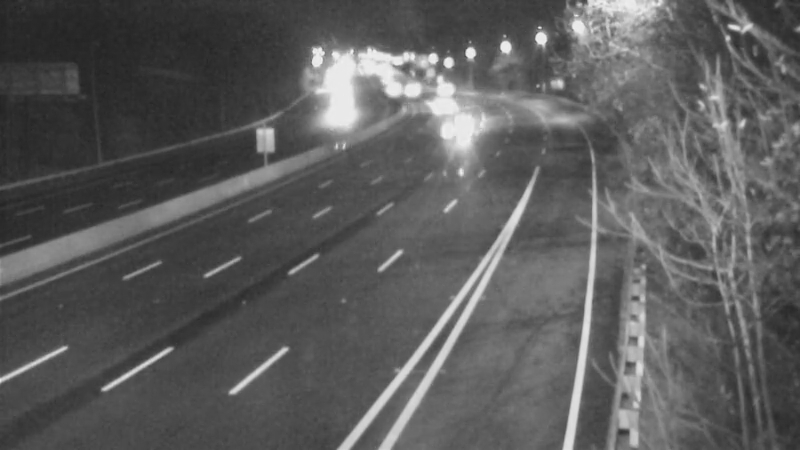vehicle: (411, 64, 461, 114), (367, 63, 417, 113), (383, 60, 433, 110), (412, 79, 462, 129), (438, 90, 488, 140), (429, 100, 479, 150), (316, 81, 366, 131)
